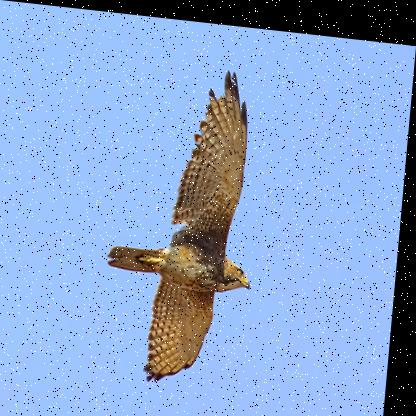Burung: (101, 56, 271, 382)
